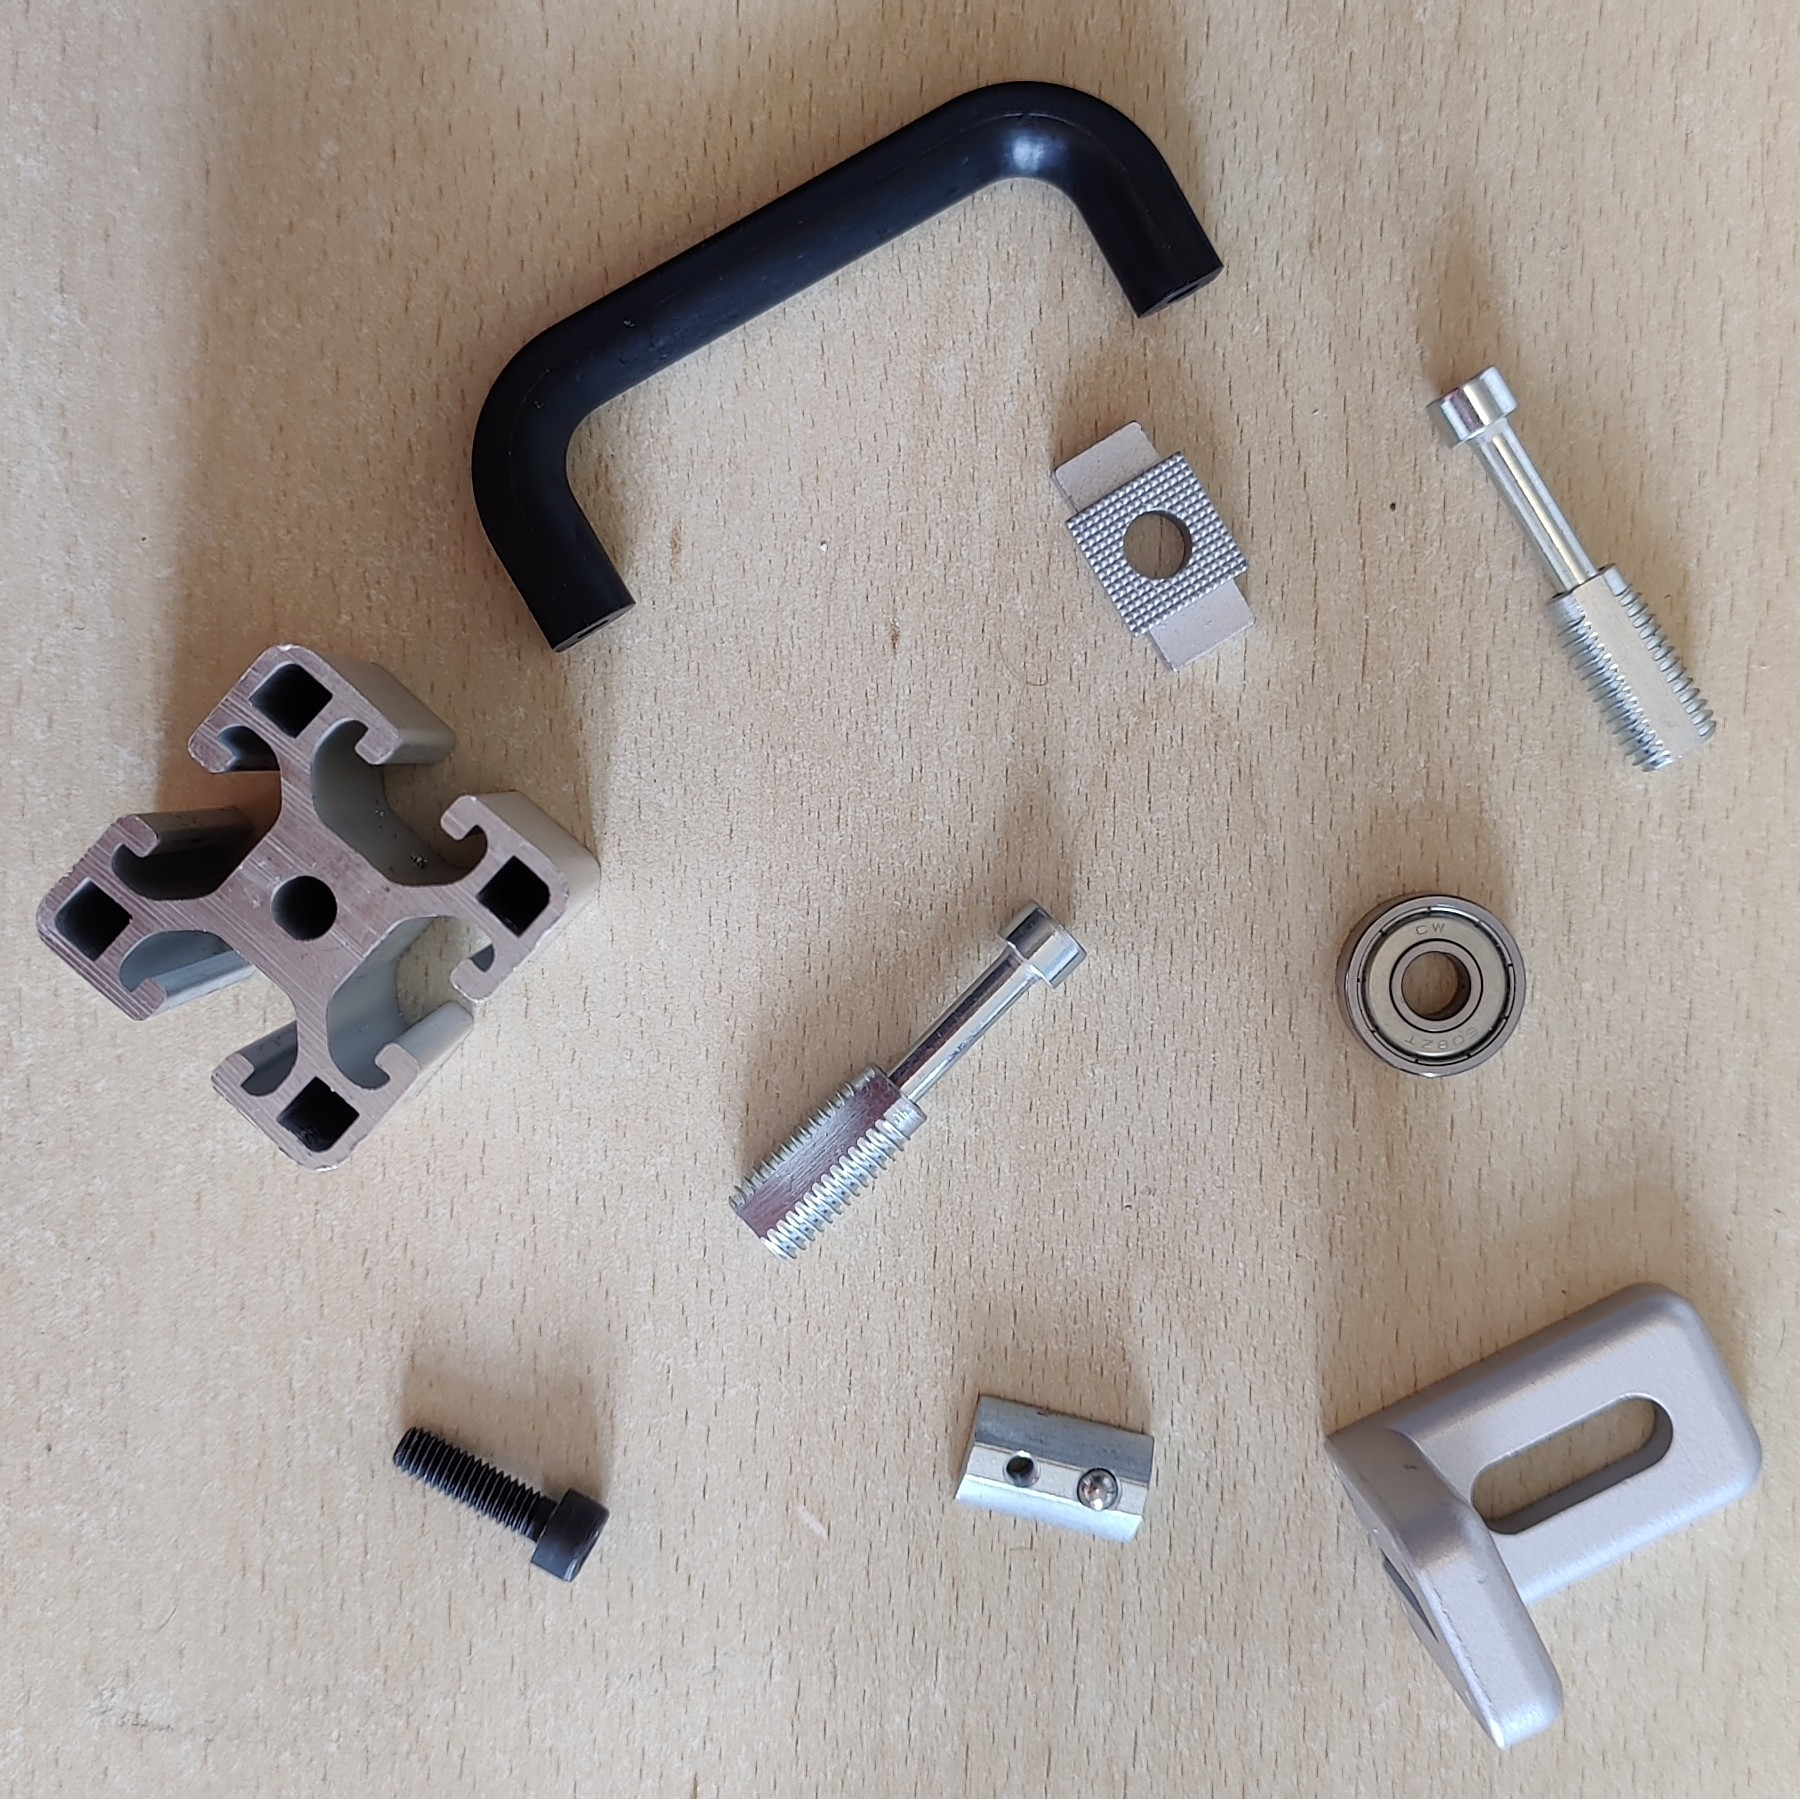Aluminium Extension: (33, 639, 604, 1176)
Ball Bearing: (1331, 890, 1528, 1081)
Multiwinkel: (1321, 1280, 1765, 1751)
Pull Handle: (469, 77, 1225, 654)
Shoulder Socket Head Cap Screw: (725, 895, 1089, 1264), (1425, 364, 1723, 778)
Socket Head Cap Screw: (389, 1423, 613, 1583)
T Nut Square: (1047, 417, 1258, 674)
T Spring Nut: (950, 1390, 1156, 1549)
